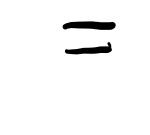eqv: (62, 20, 117, 55)
